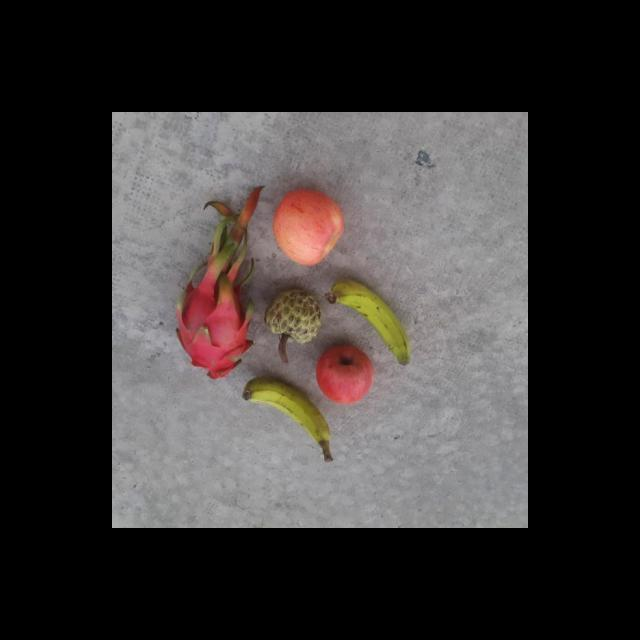Sakya fruit: (263, 290, 327, 344)
apple: (268, 184, 344, 267), (318, 344, 377, 409)
banana: (325, 278, 410, 369), (238, 376, 337, 450)
pitaya: (172, 279, 259, 384)
